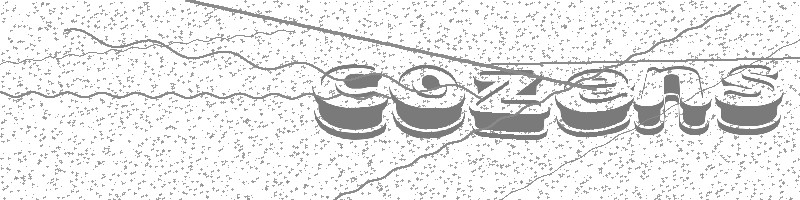c: (308, 60, 391, 141)
e: (554, 67, 631, 138)
n: (635, 64, 712, 137)
o: (389, 64, 467, 138)
s: (713, 54, 783, 134)
z: (467, 65, 554, 142)
